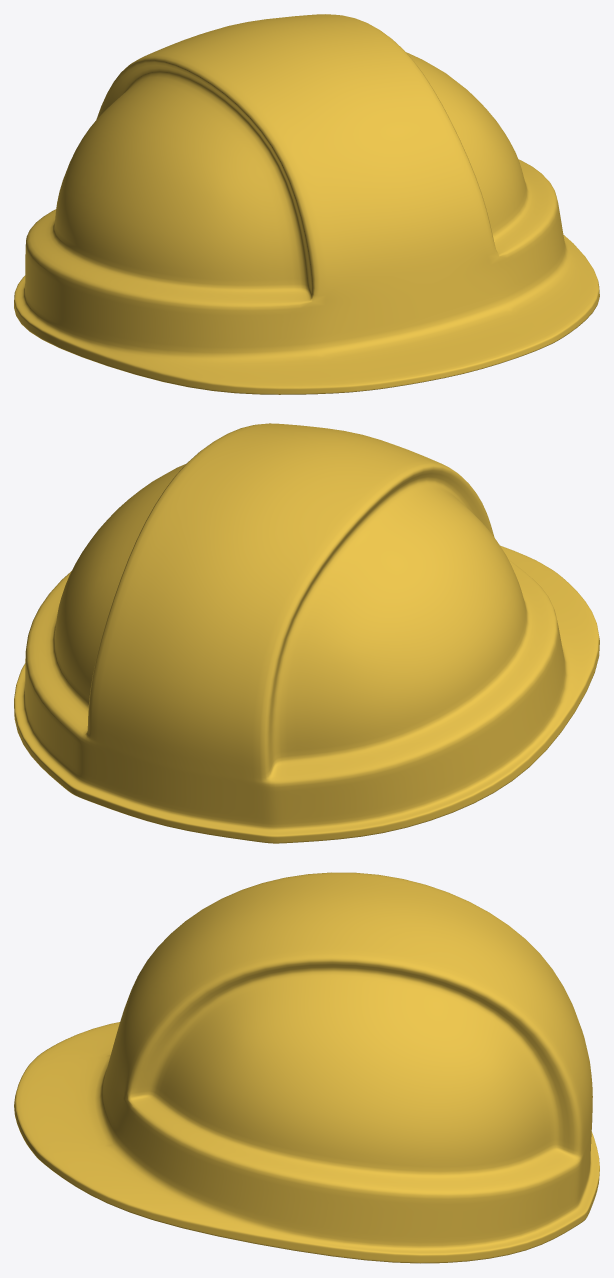
File: safetyhat.glb
3 renders of one model, top to bottom at view 1: azimuth 30°, elevation 25°; view 2: azimuth 150°, elevation 25°; view 3: azimuth 270°, elevation 25°, orthographic.
Visible parts, largest first — view 1: Cube; view 2: Cube; view 3: Cube.
Part boxes in pixels (box(x1,y1,x2,y2)): Cube: box(14, 14, 599, 394); Cube: box(14, 423, 599, 843); Cube: box(14, 872, 599, 1263).
Size of the model in its own units: 1.87 by 1.01 by 1.99.
